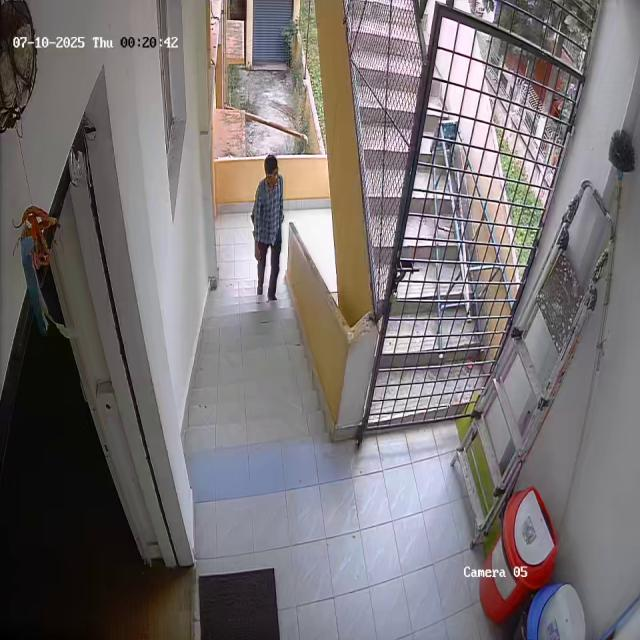person: (247, 154, 285, 302)
